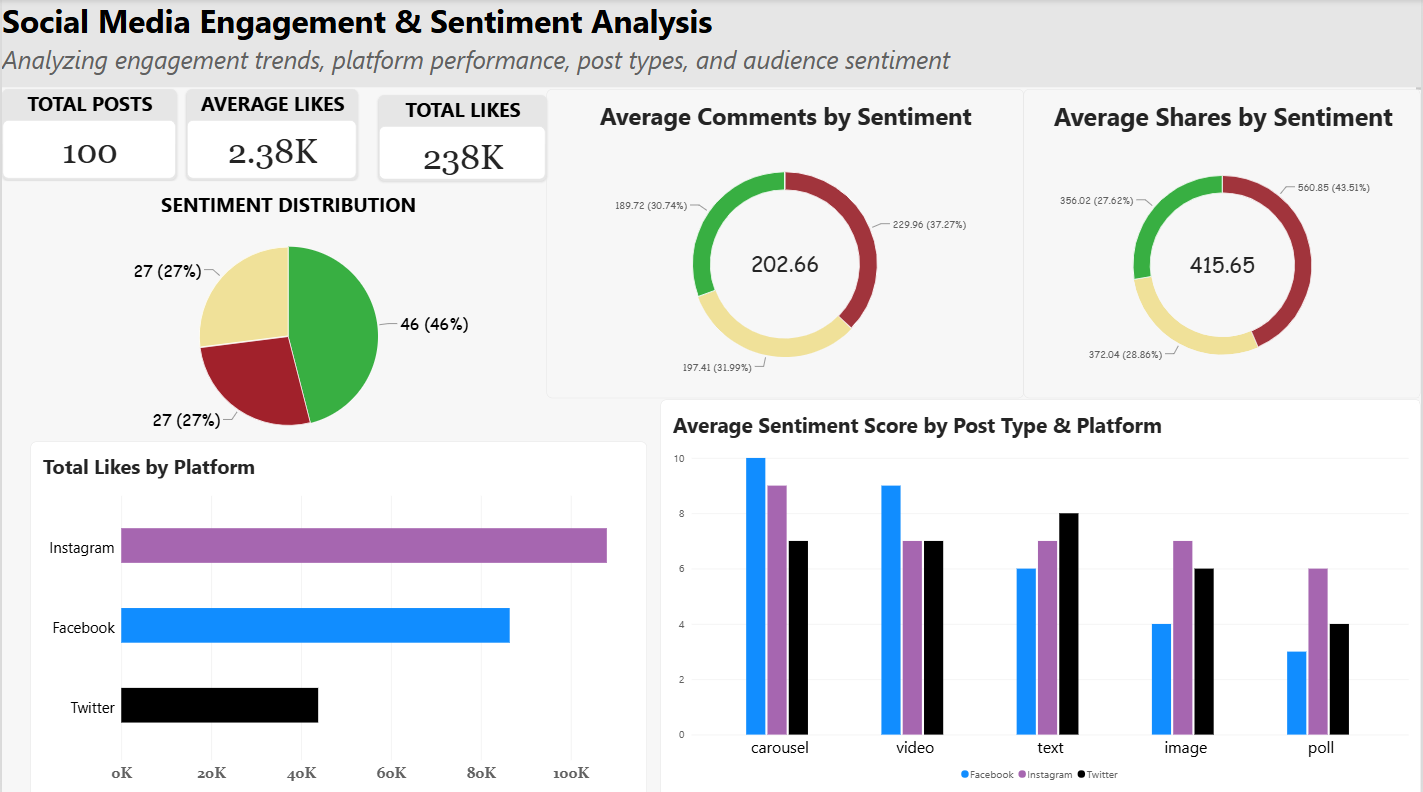

Layout of this report page (visuals, bound fields, positions):
{"tool":"powerbi","page":{"name":"Page 1","canvas":[1920,1080],"ordinal":0},"visuals":[{"type":"clusteredBarChart","title":"Total Likes by Platform","fields":{"Category":["social_media_engagement.platform"],"Y":["Sum(social_media_engagement.likes)"]},"box":[38.6,597.4,833.6,481.5],"z":0},{"type":"textbox","title":"Social Media Engagement & Sentiment Analysis","box":[0,0,1919.3,122.7],"z":1000},{"type":"cardVisual","title":"TOTAL POSTS","fields":{"Data":["CountNonNull(social_media_engagement.post_id)"]},"box":[0,122.7,236.2,122.7],"z":2000},{"type":"cardVisual","title":"TOTAL LIKES","fields":{"Data":["Sum(social_media_engagement.likes)"]},"box":[508.8,129.5,227.1,115.8],"z":3000},{"type":"cardVisual","title":"AVERAGE LIKES","fields":{"Data":["Avg(social_media_engagement.likes)"]},"box":[249.8,122.7,231.7,122.7],"z":4000},{"type":"pieChart","title":"SENTIMENT DISTRIBUTION","fields":{"Category":["social_media_engagement.sentiment_score"],"Y":["social_media_engagement.Count of sentiment_score average per sentiment_score"]},"box":[0,245.3,774.5,381.6],"z":5000},{"type":"clusteredColumnChart","title":"Average Sentiment Score by Post Type & Platform","fields":{"Category":["social_media_engagement.post_type"],"Series":["social_media_engagement.platform"],"Y":["CountNonNull(social_media_engagement.sentiment_score)"]},"box":[890.4,540.6,1028.9,538.3],"z":6000},{"type":"donutChart","title":"Average Comments by Sentiment","fields":{"Category":["social_media_engagement.sentiment_score"],"Y":["Avg(social_media_engagement.comments)"]},"box":[735.9,122.7,645.1,417.9],"z":7000},{"type":"donutChart","title":"Average Shares by Sentiment","fields":{"Category":["social_media_engagement.sentiment_score"],"Y":["Avg(social_media_engagement.shares)"]},"box":[1381,122.7,538.3,417.9],"z":8000}]}

Visuals, with their boxes in screenshot pixels (x1, y1, x2, y2), scaled from the page's 1920x1080 canvas onto the 1423x792 screenshot:
"Total Likes by Platform" clusteredBarChart: (29,438,646,791)
"Social Media Engagement & Sentiment Analysis" textbox: (0,0,1422,90)
"TOTAL POSTS" cardVisual: (0,90,175,180)
"TOTAL LIKES" cardVisual: (377,95,545,180)
"AVERAGE LIKES" cardVisual: (185,90,357,180)
"SENTIMENT DISTRIBUTION" pieChart: (0,180,574,460)
"Average Sentiment Score by Post Type & Platform" clusteredColumnChart: (660,396,1422,791)
"Average Comments by Sentiment" donutChart: (545,90,1024,396)
"Average Shares by Sentiment" donutChart: (1024,90,1422,396)
